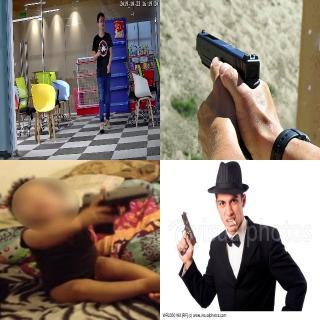gun: (193, 27, 261, 101), (82, 183, 150, 235), (175, 211, 197, 255), (95, 44, 103, 56)
